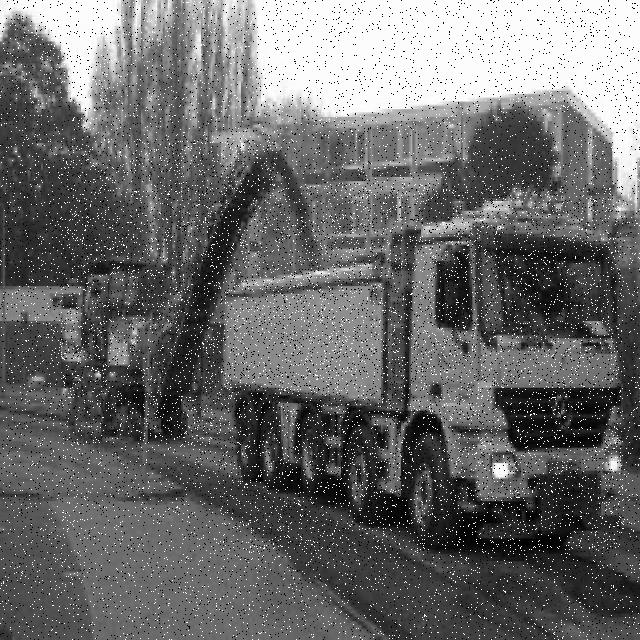Construction Equipment: (61, 139, 273, 442)
Truck- Multi-Axle: (221, 183, 623, 552)
